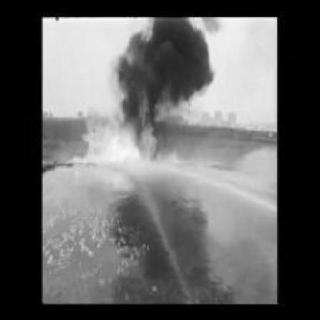Fire: (74, 80, 164, 166)
Smoke: (120, 21, 218, 103)
